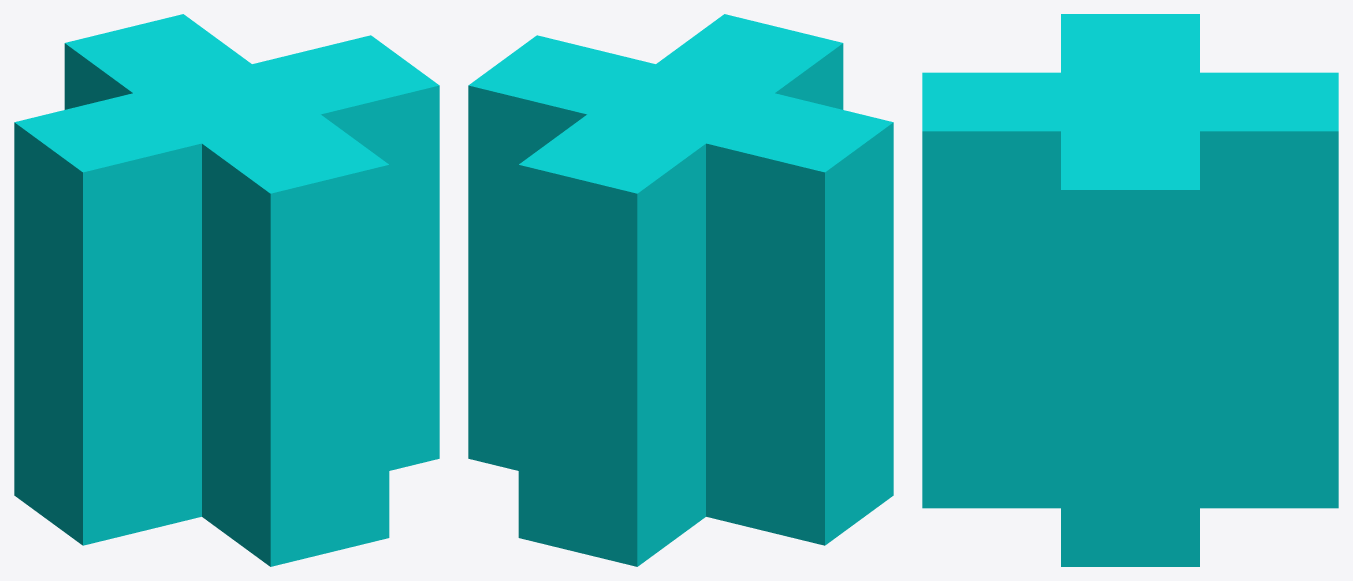
Rendered from wall_cross_2.fbx.
3 renders of one model, left to right at view 1: azimuth 30°, elevation 25°; view 2: azimuth 150°, elevation 25°; view 3: azimuth 270°, elevation 25°, orthographic.
Parts seen in each view (by area): view 1: wall_cross_2; view 2: wall_cross_2; view 3: wall_cross_2.
Boxes of the visible parts, box(x1,y1,x2,y2) form: wall_cross_2: box(14, 14, 439, 566); wall_cross_2: box(468, 14, 893, 566); wall_cross_2: box(922, 14, 1338, 566).
Size of the model in its own units: 3 by 3 by 3.
